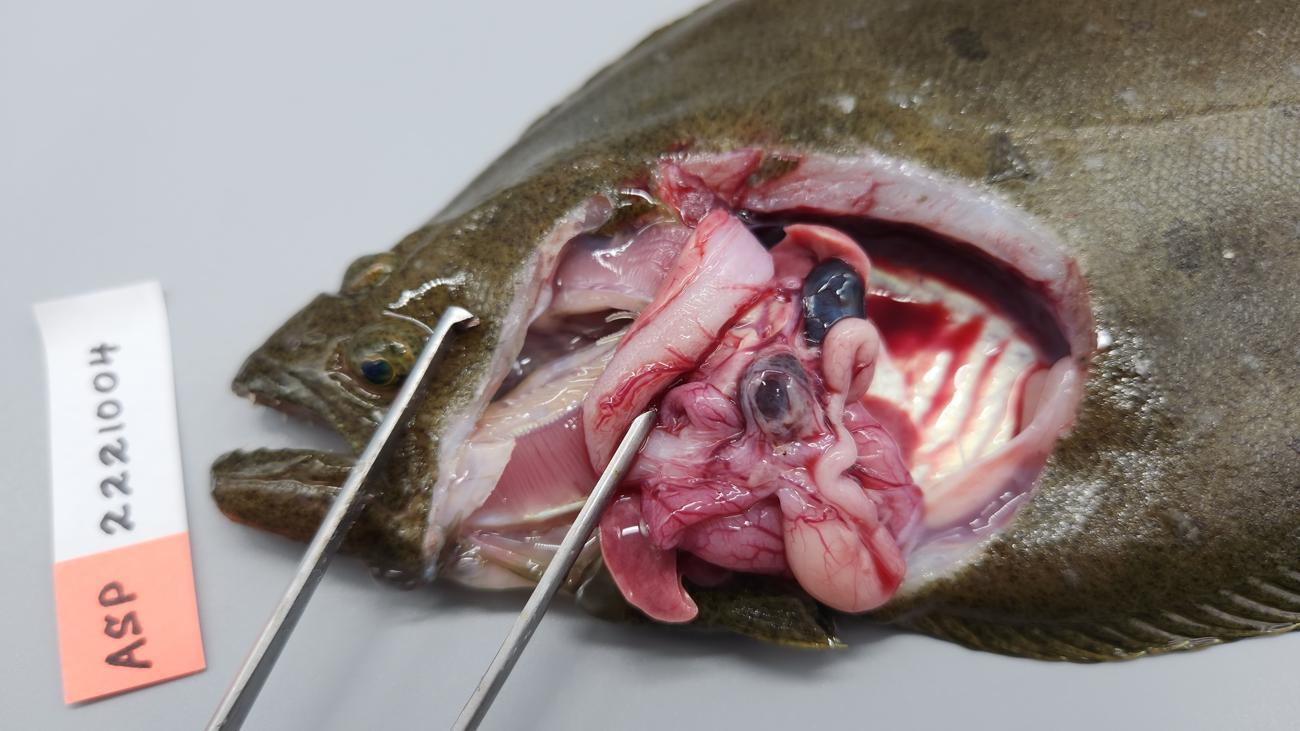SPINI: (874, 522, 906, 581)
SPINT: (850, 514, 898, 608)
